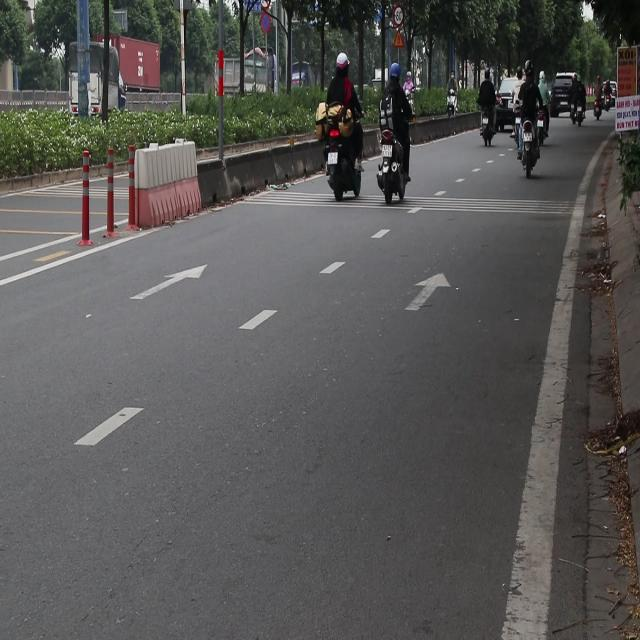car: (552, 72, 579, 116), (496, 77, 523, 106)
motorbike: (321, 110, 364, 202), (376, 130, 409, 202), (518, 106, 535, 172), (405, 68, 418, 114), (442, 94, 459, 124), (572, 105, 585, 128), (592, 97, 604, 120)
truck: (205, 37, 285, 114), (60, 46, 130, 132), (102, 32, 153, 107)
